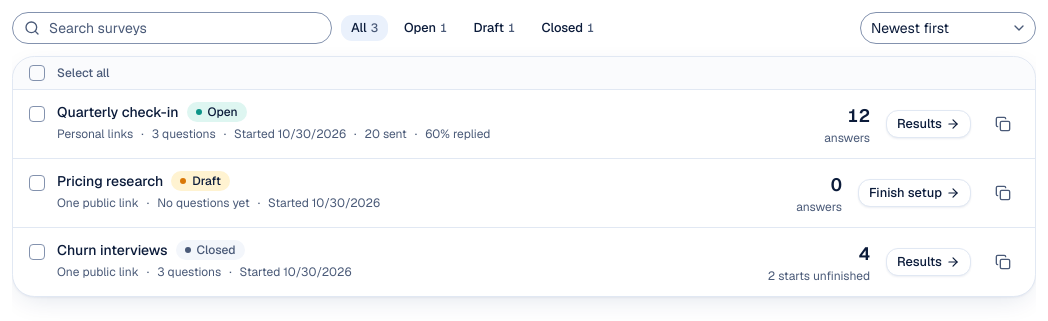
Test case: surveys list › searches by title and clears back to everything
Type "churn" into the search field labelled "Search surveys". click: (172, 28)
box: top-left (12, 12), bottom-right (332, 44)
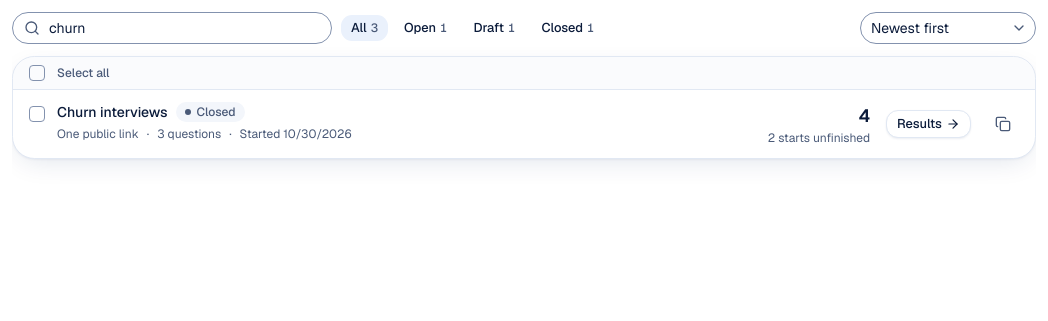
Expected: the link "Churn interviews" is shown, top-left (57, 102), bottom-right (168, 122)
Result: the link "Quarterly check-in" is gone
Replace the text in the search field named "Search surveys" with "nothing". click: (172, 28)
box: top-left (12, 12), bottom-right (332, 44)
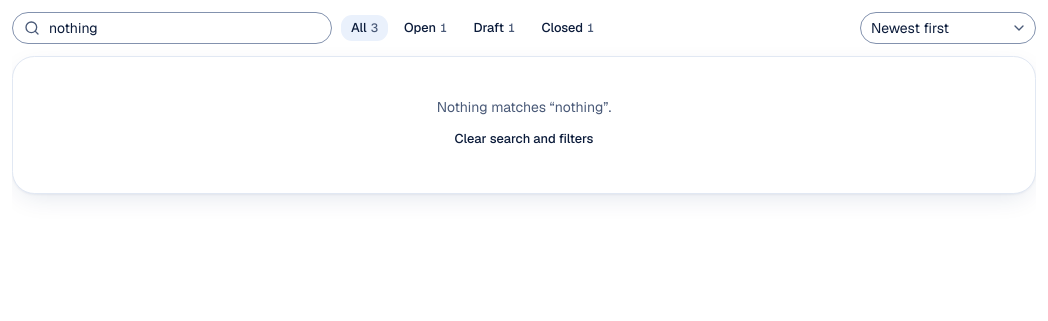
Result: the text "Nothing matches “nothing”." is shown at top-left (437, 98), bottom-right (611, 116)
Click the button "Clear search and filters". click: (524, 139)
box: top-left (37, 125), bottom-right (1011, 153)
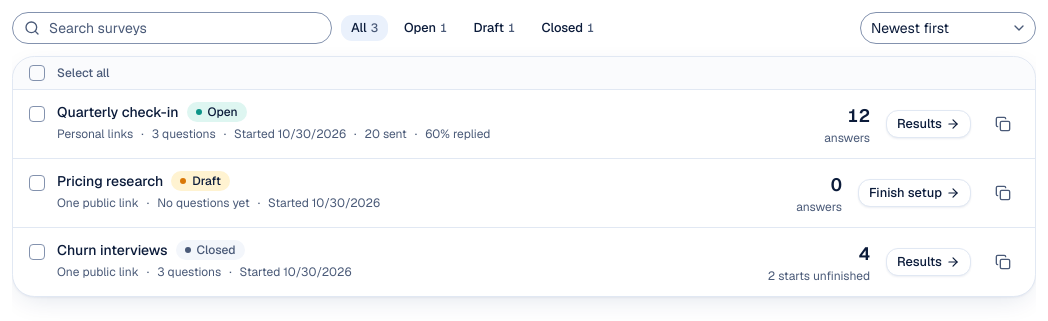
Result: the link "Quarterly check-in" is shown at top-left (57, 102), bottom-right (179, 122)
